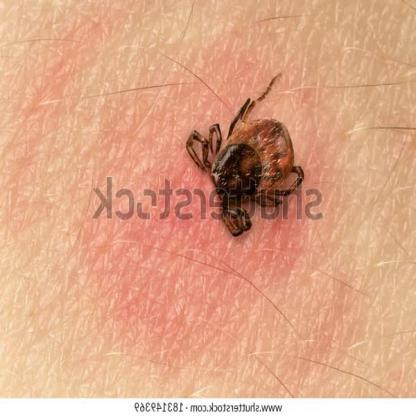Tick: (1, 0, 366, 390)
